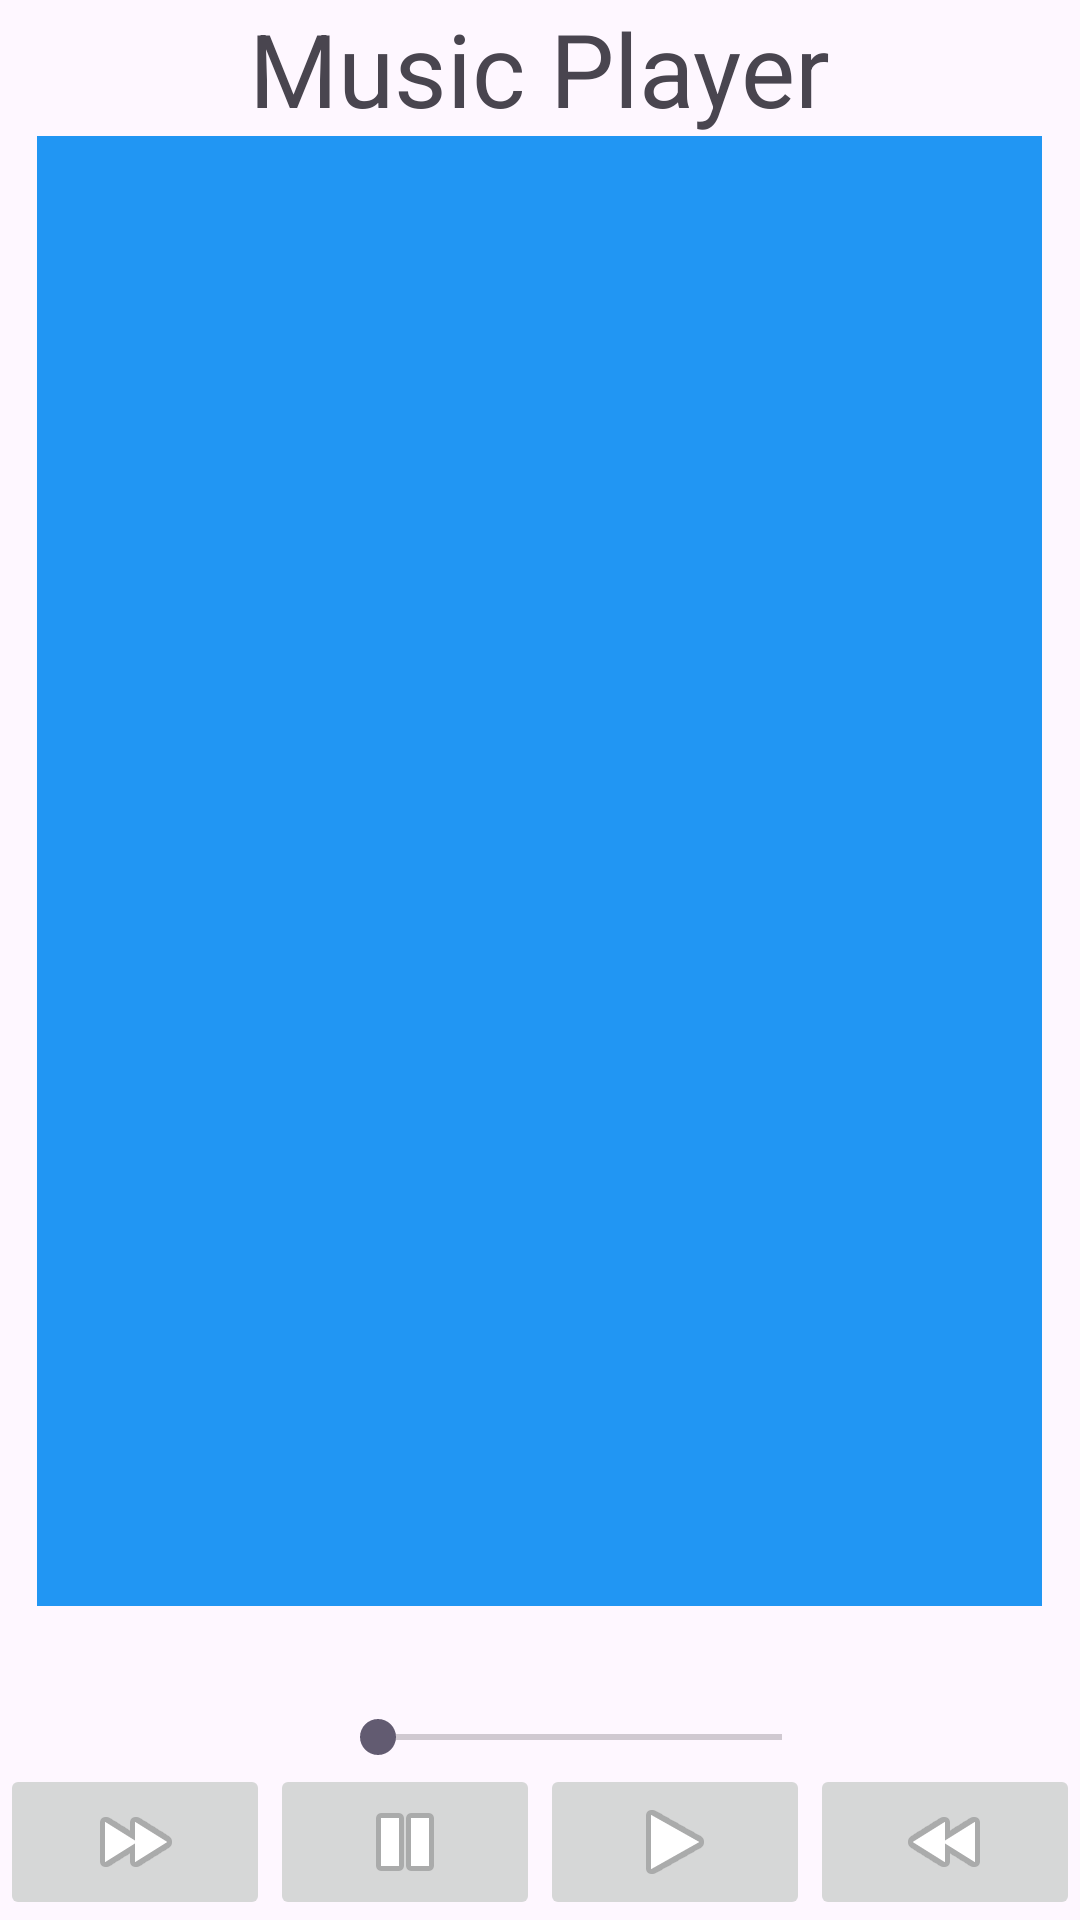

Icons on this 1080px×1920px Android screen, each with the point to tap as (x,y):
pause: (405,1842)
play: (675,1842)
rew: (945,1842)
